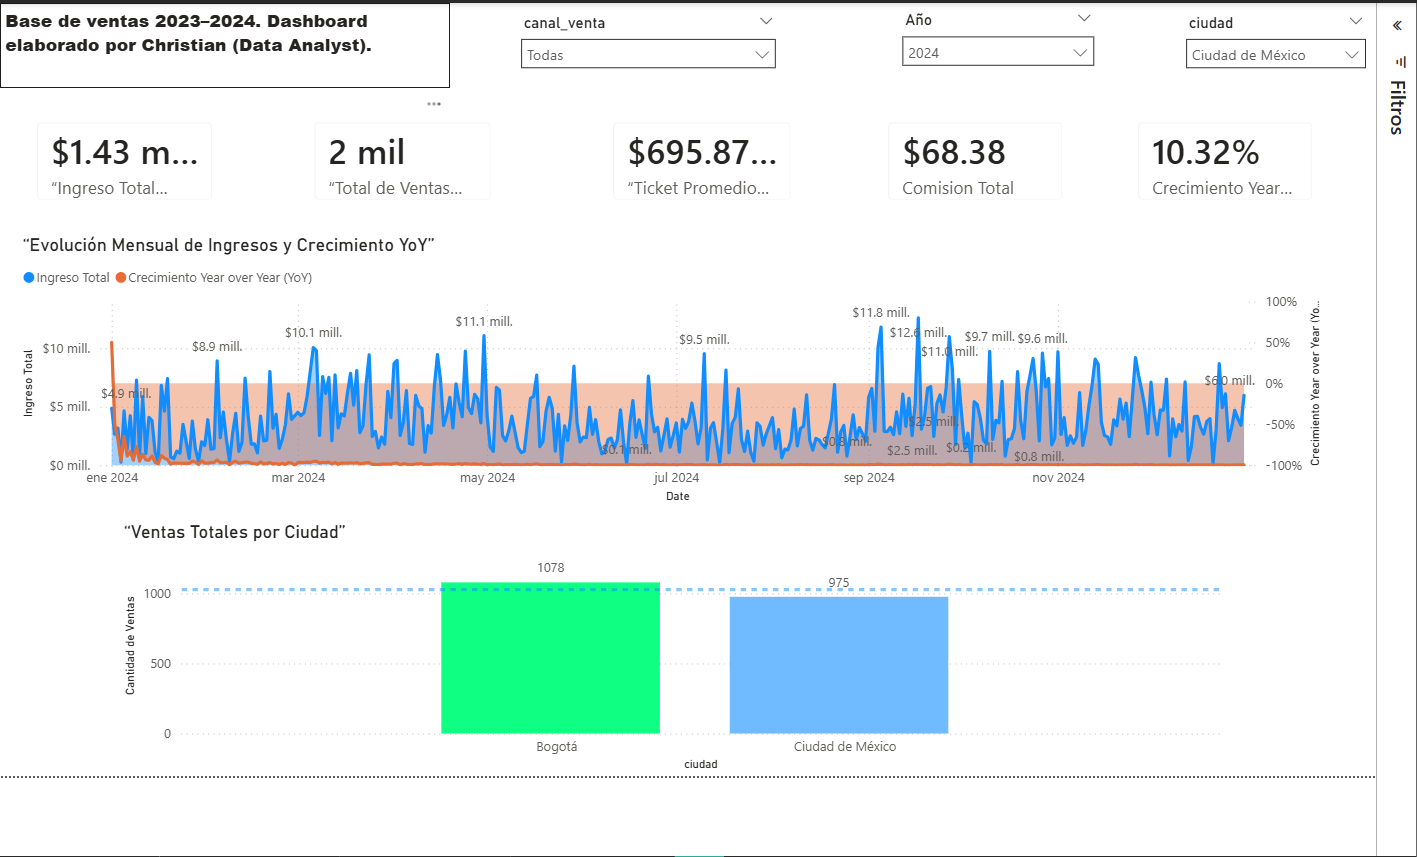

This screenshot's page, from the dashboard's own definition file:
{"tool":"powerbi","page":{"name":"Overview Ejecutivo","canvas":[1280,720],"ordinal":0},"visuals":[{"type":"cardVisual","fields":{"Data":["hecho_ventas_propiedades.Ingreso Total"]},"box":[17.4,94.3,197.2,106.7],"z":0},{"type":"cardVisual","fields":{"Data":["hecho_ventas_propiedades.Cantidad de Ventas"]},"box":[275.4,94.3,198.5,106.7],"z":1000},{"type":"cardVisual","fields":{"Data":["hecho_ventas_propiedades.Ticket Promedio"]},"box":[553.3,94.3,199.7,106.7],"z":2000},{"type":"cardVisual","fields":{"Data":["hecho_ventas_propiedades.Comision Total"]},"box":[808.8,94.3,196,106.7],"z":3000},{"type":"lineChart","title":"“Evolución Mensual de Ingresos y Crecimiento YoY”","fields":{"Category":["dim_Fecha.Date"],"Y":["hecho_ventas_propiedades.Ingreso Total"],"Y2":["dim_clientes.Crecimiento Year over Year (YoY)"]},"box":[15.9,215.6,1219,254.8],"z":4000},{"type":"slicer","fields":{"Values":["dim_clientes.ciudad"]},"box":[1092.9,5,187.3,74.4],"z":5000},{"type":"slicer","fields":{"Values":["dim_Fecha.Año"]},"box":[828.7,2.5,198.5,76.9],"z":6000},{"type":"clusteredColumnChart","title":"“Ventas Totales por Ciudad”","fields":{"Category":["hecho_ventas_propiedades.ciudad"],"Y":["hecho_ventas_propiedades.Cantidad de Ventas"]},"box":[110.4,481.3,1029.7,238.2],"z":7000},{"type":"cardVisual","fields":{"Data":["dim_clientes.Crecimiento Year over Year (YoY)"]},"box":[1042.1,94.3,196,106.7],"z":8000},{"type":"slicer","fields":{"Values":["hecho_ventas_propiedades.canal_venta"]},"box":[474.8,5,257.3,89.5],"z":9000},{"type":"textbox","box":[0,0,418.9,79.5],"z":10000}]}

Visuals, with their boxes on the page's 1280x720 design canvas (x1, y1, x2, y2). These are canvas units, not pixel positions in the 1417x857 screenshot, which may show the page scaled, cropped or inside an application window:
cardVisual - hecho_ventas_propiedades.Ingreso Total: [17,94,215,201]
cardVisual - hecho_ventas_propiedades.Cantidad de Ventas: [275,94,474,201]
cardVisual - hecho_ventas_propiedades.Ticket Promedio: [553,94,753,201]
cardVisual - hecho_ventas_propiedades.Comision Total: [809,94,1005,201]
"“Evolución Mensual de Ingresos y Crecimiento YoY”" lineChart: [16,216,1235,470]
slicer - dim_clientes.ciudad: [1093,5,1280,79]
slicer - dim_Fecha.Año: [829,2,1027,79]
"“Ventas Totales por Ciudad”" clusteredColumnChart: [110,481,1140,720]
cardVisual - dim_clientes.Crecimiento Year over Year (YoY): [1042,94,1238,201]
slicer - hecho_ventas_propiedades.canal_venta: [475,5,732,94]
textbox: [0,0,419,80]
